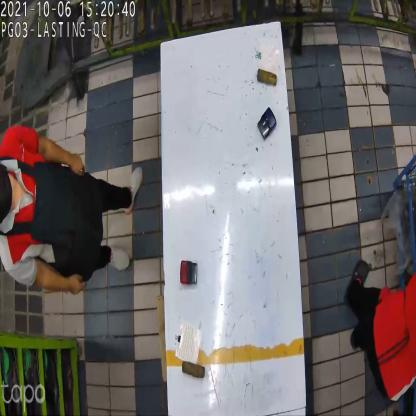stamp: (258, 105, 276, 141), (179, 257, 198, 287)
